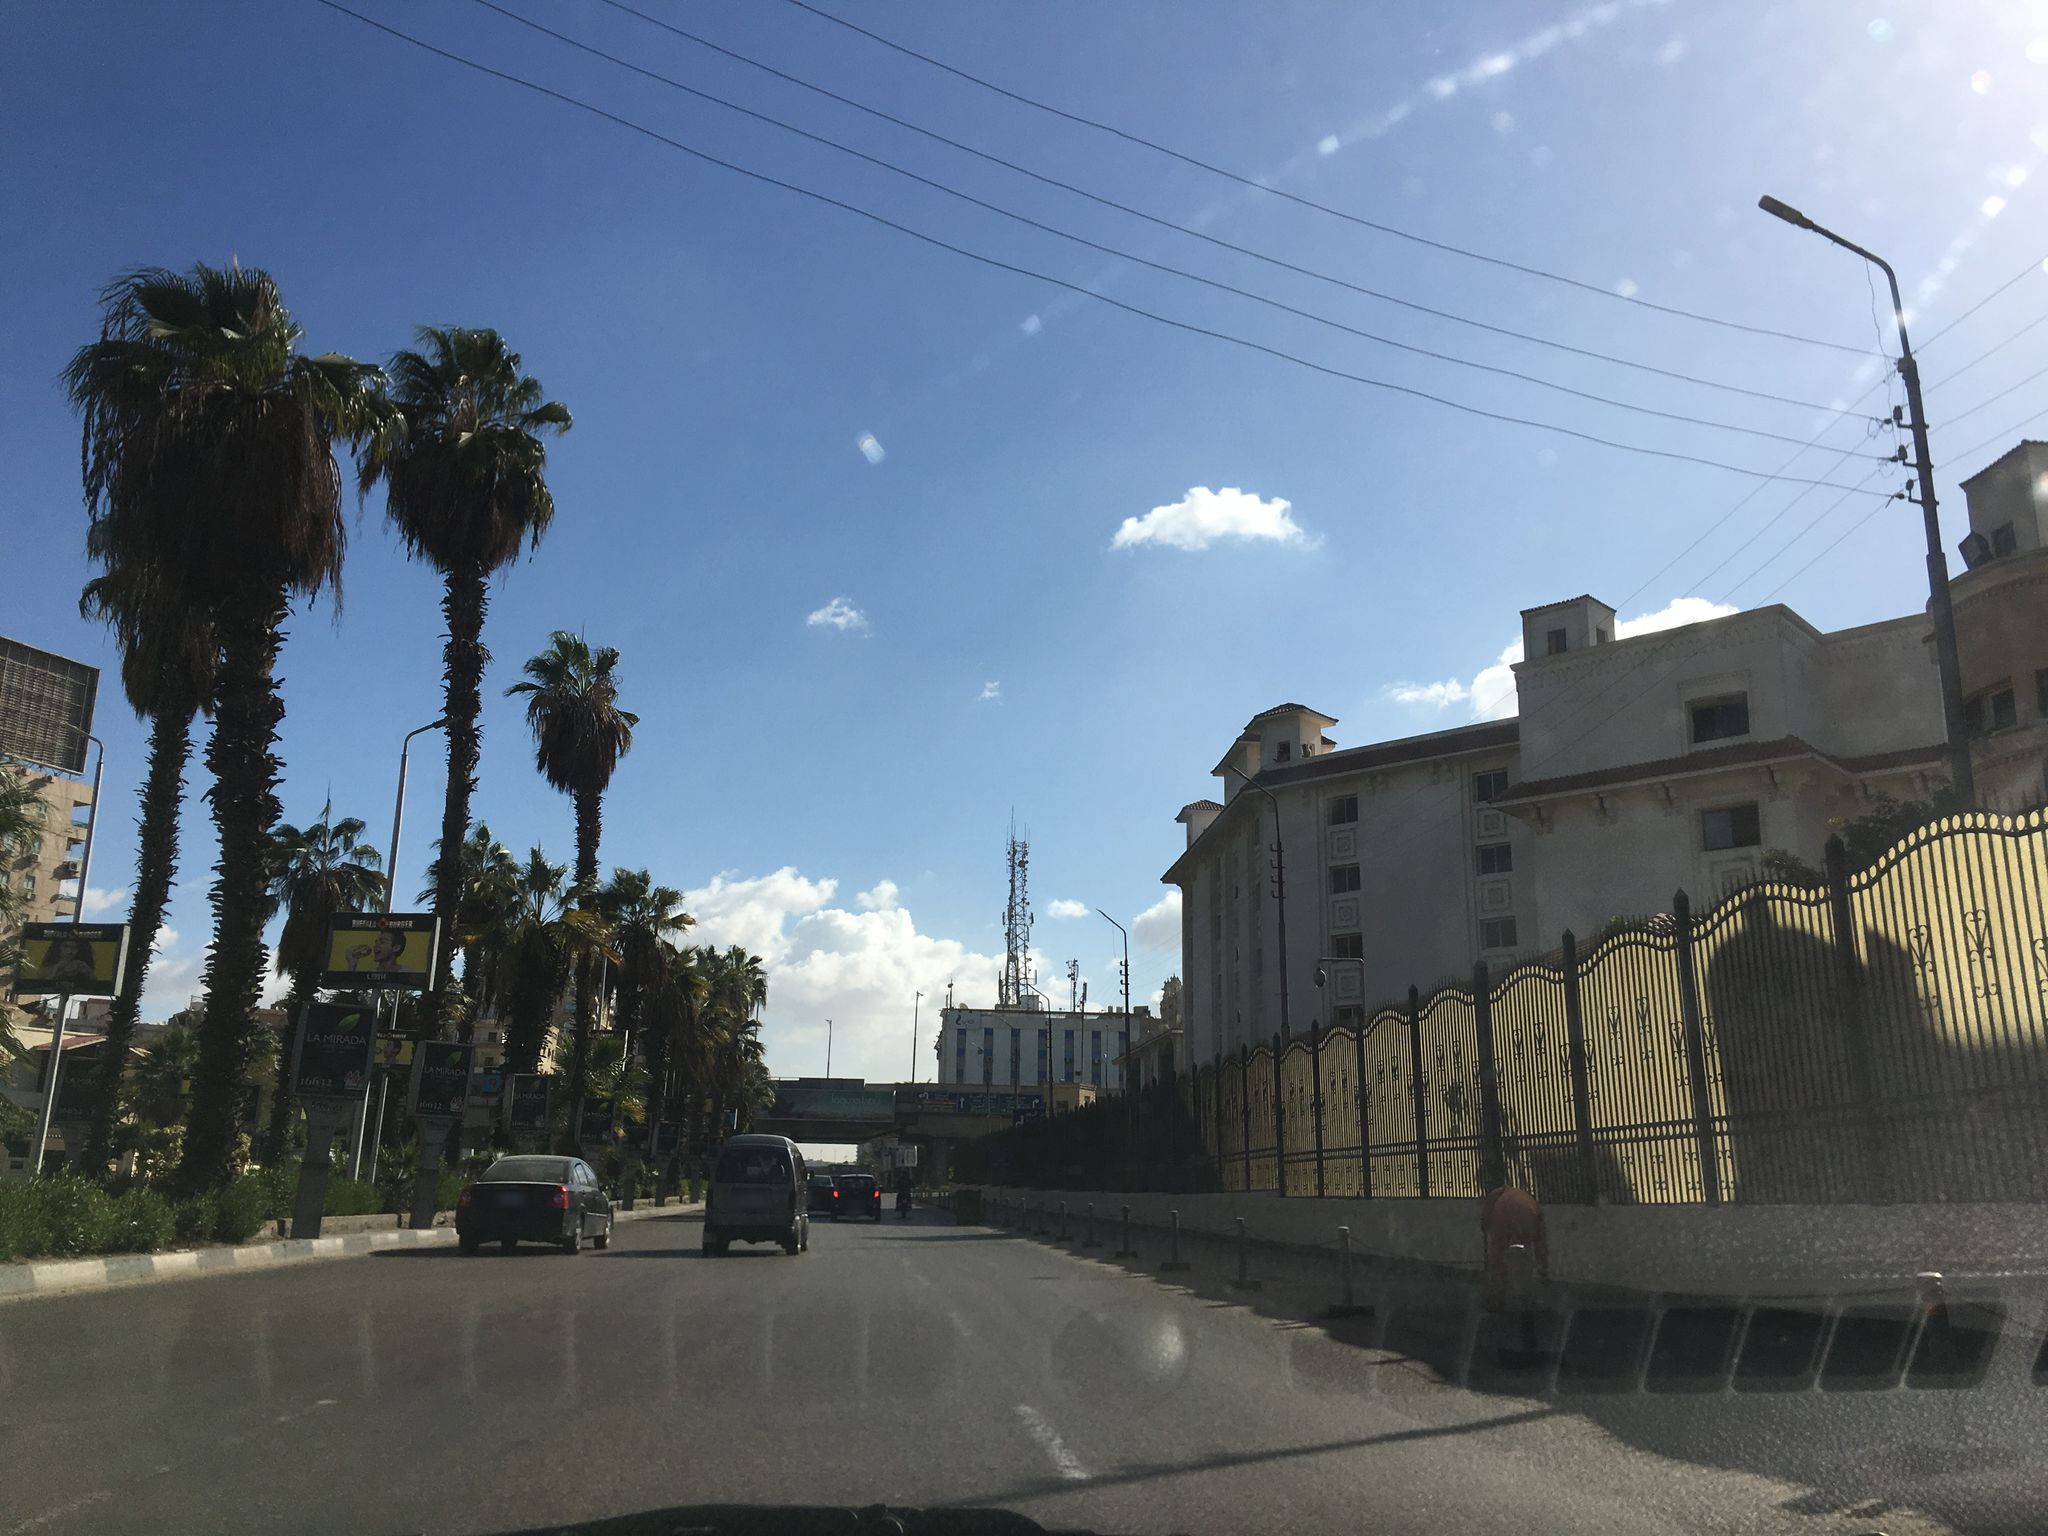car: (453, 1154, 614, 1254), (695, 1133, 813, 1254), (830, 1171, 884, 1220), (805, 1173, 835, 1213)
motorcycle: (892, 1183, 918, 1218)
